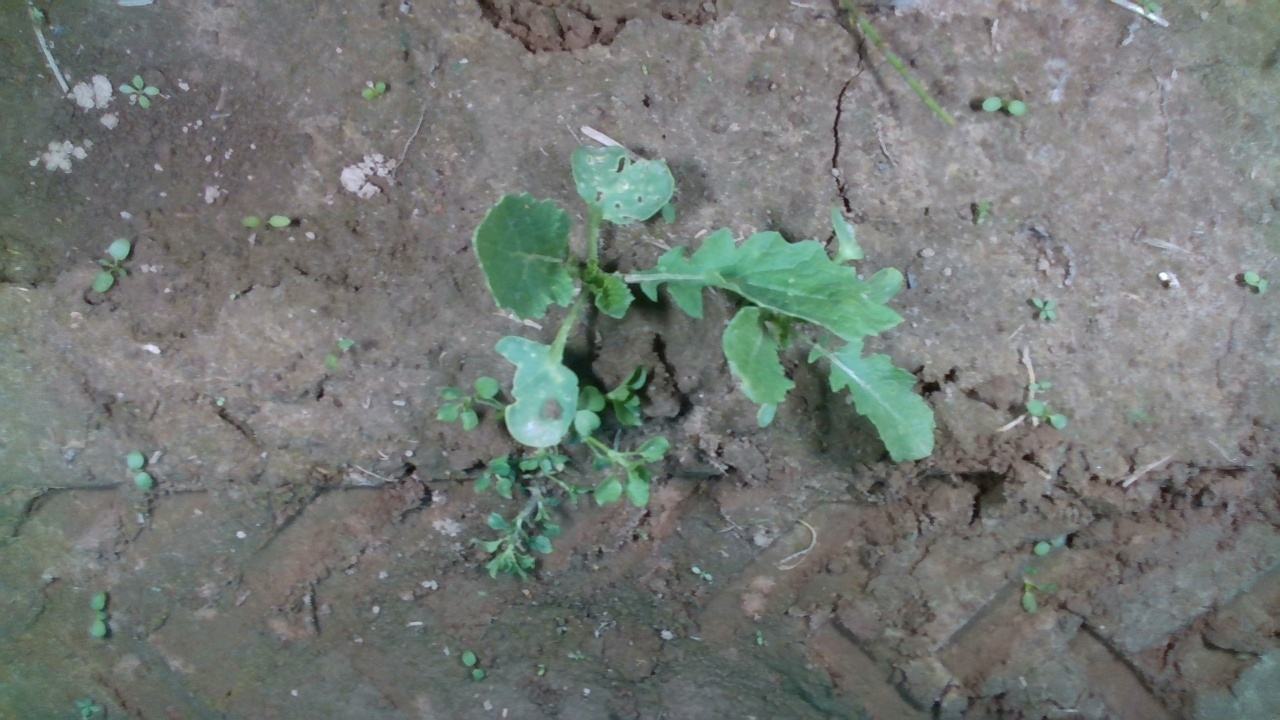weed: (88, 236, 132, 294), (116, 72, 162, 108), (1025, 396, 1070, 431), (124, 448, 154, 493), (981, 93, 1028, 118), (88, 585, 108, 640), (1032, 531, 1068, 557), (237, 213, 292, 229), (1030, 295, 1060, 323), (460, 649, 484, 683), (1241, 270, 1271, 294), (359, 78, 388, 102), (1025, 379, 1053, 391)
